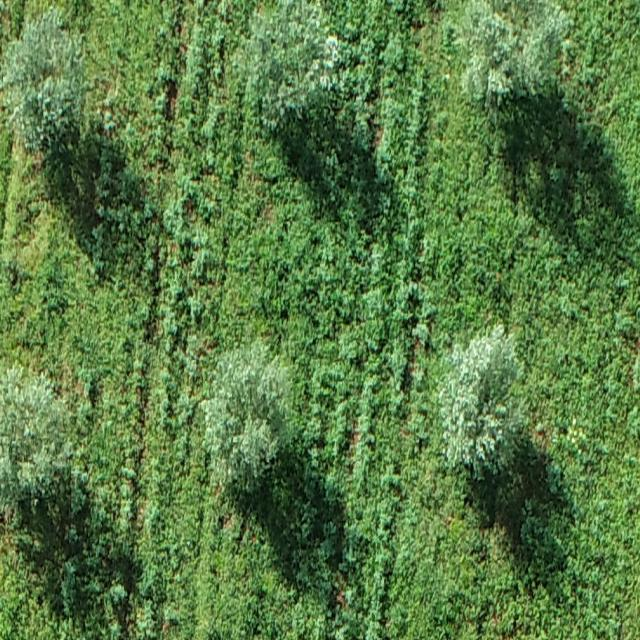trees: (0, 0, 640, 640), (440, 325, 523, 479), (203, 343, 288, 490), (1, 7, 84, 153), (462, 0, 568, 105), (251, 0, 338, 126), (0, 367, 69, 515)
